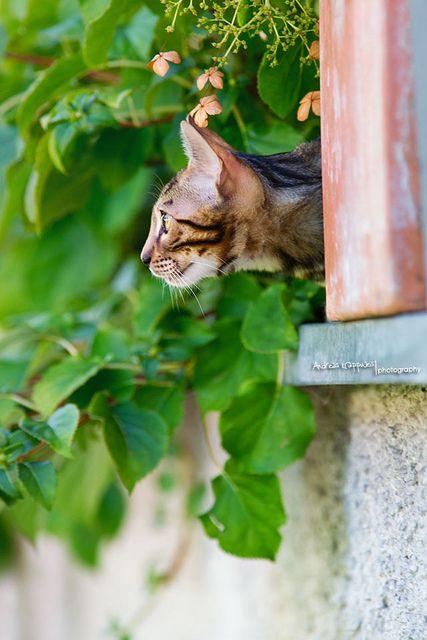kedo: (141, 114, 324, 288)
